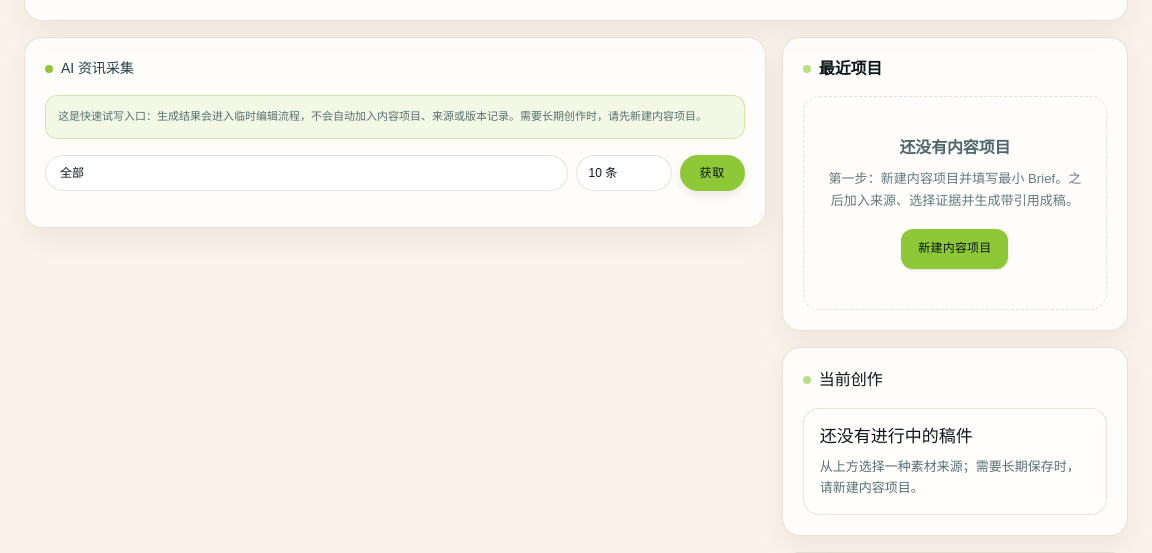
Test case: SourceCollection › 首屏明确展示从来源、证据到带引用成稿的主线，空态给出第一步动作
(page scrolled)
Expected: the text "第一步：新建内容项目并填写最小 Brief。之后加入来源、选择证据并生成带引用成稿。" is shown, [824,168,1086,212]
Click the button "新建内容项目" at point(955, 249), box [901,229,1008,269]
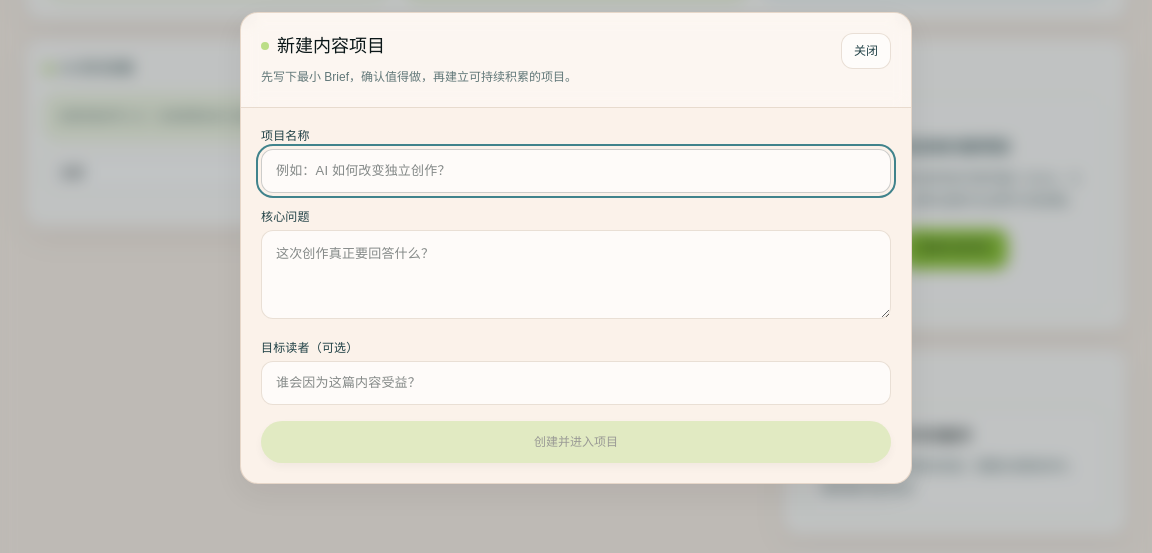
Result: the field labelled "项目名称" is shown at [261,149,891,193]
